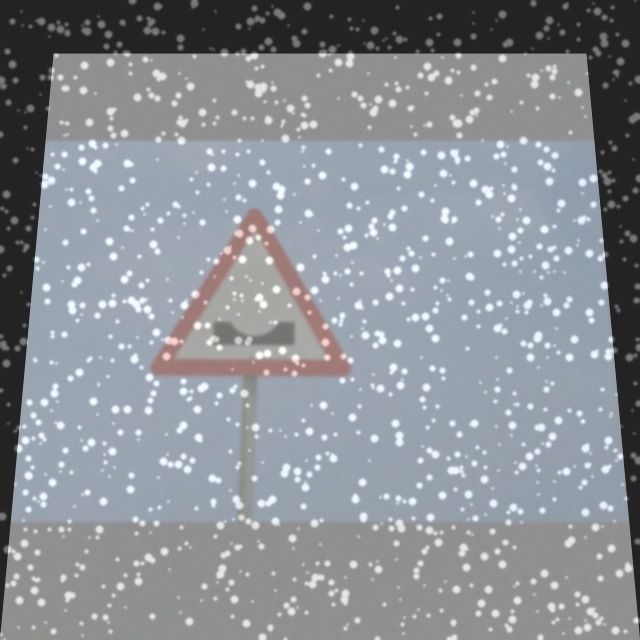Dangerous_Dip: (150, 204, 352, 378)
